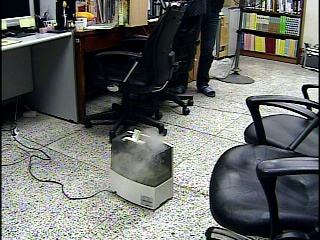smoke: (112, 122, 167, 177)
